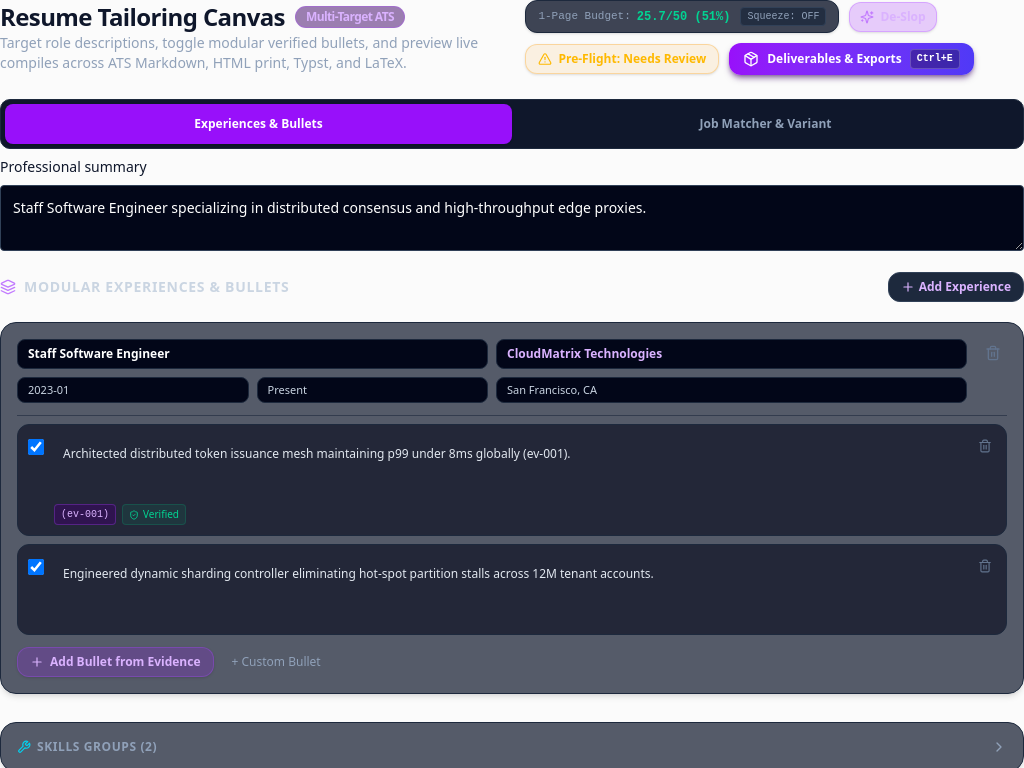
Resume Tailor & Pre-Flight Gate Tests › Adding a bullet from evidence store into an experience › opens evidence picker modal and inserts chosen accomplishment as a bullet with citation attached
The image size is (1024, 768).
Expected: the field showing "CloudMatrix Technologies" is shown, 496,339 -> 967,369
// Click '+ Add Bullet from Evidence'
What coordinates should you click on to do the following:
click the button "Add Bullet from Evidence"
I would click on:
 (115, 662)
Its box is 17,647 -> 214,677.
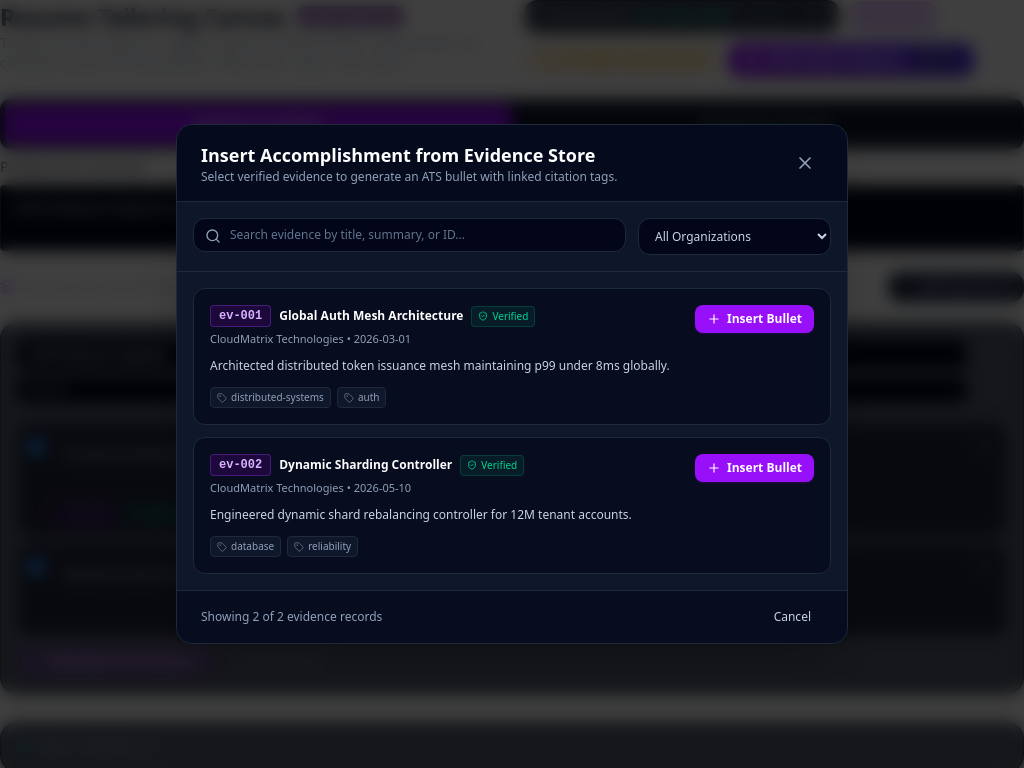
Result: the heading "Insert Accomplishment from Evidence Store" is shown at 201,141 -> 617,169
Result: the text "Dynamic Sharding Controller" is shown at 279,457 -> 452,473
// Click insert button on second evidence item
What coordinates should you click on to do the following:
click the button "Insert Bullet" in the row of "Dynamic Sharding Controller"
I would click on:
 (754, 468)
Its box is 695,454 -> 814,482.
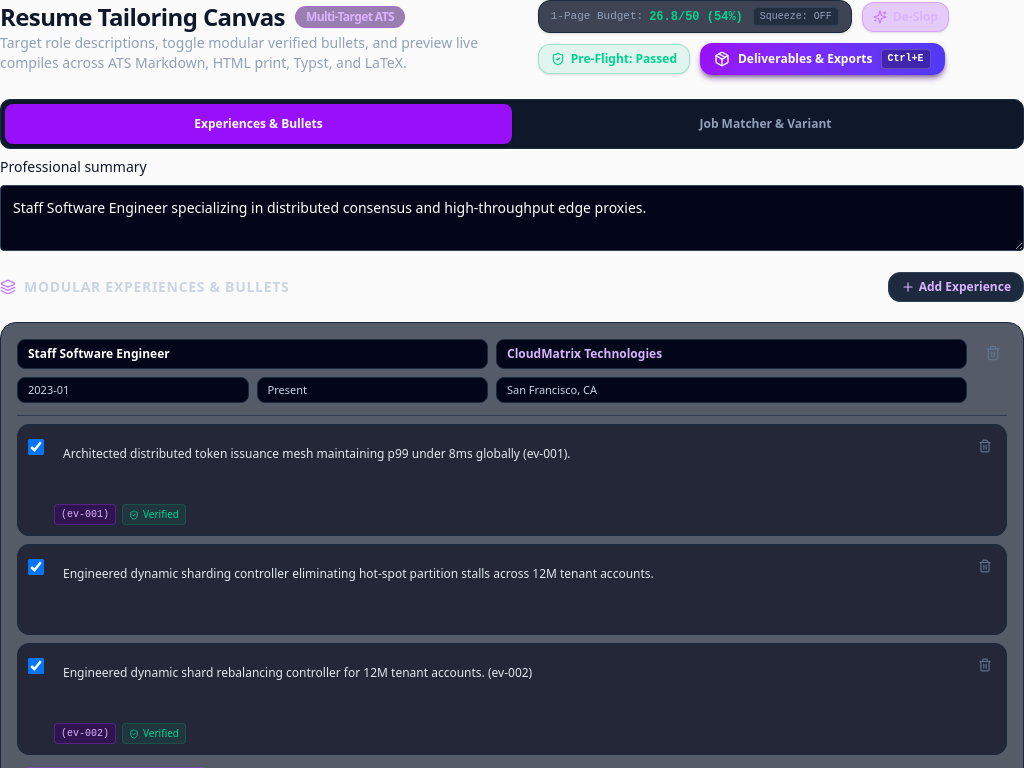
Result: the heading "Insert Accomplishment from Evidence Store" is gone
Result: the number of checkboxes is 3 at 28,439 -> 44,455; 28,559 -> 44,575; 28,658 -> 44,674
